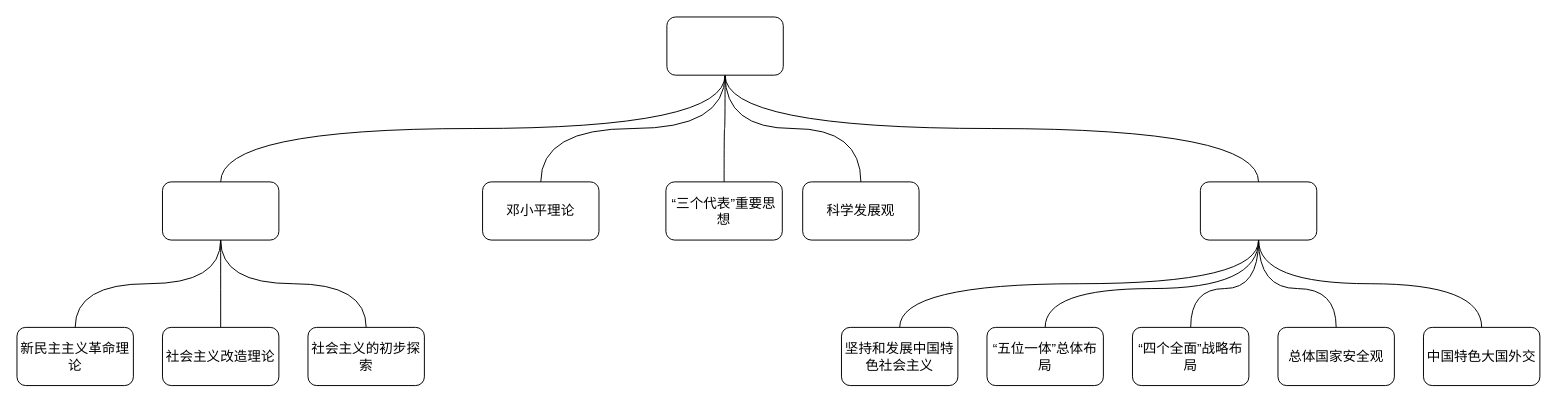
Some shapes in this 1557 by 403 pixel diagram are drawn without their labels. Here are the shapes that lost their labels. From the top down, the centre of each, then its label:
At point (724, 45): "马克思主义中国化".
At point (220, 210): "毛泽东思想".
At point (1258, 210): "习近平新时代中国特色社会主义思想".
